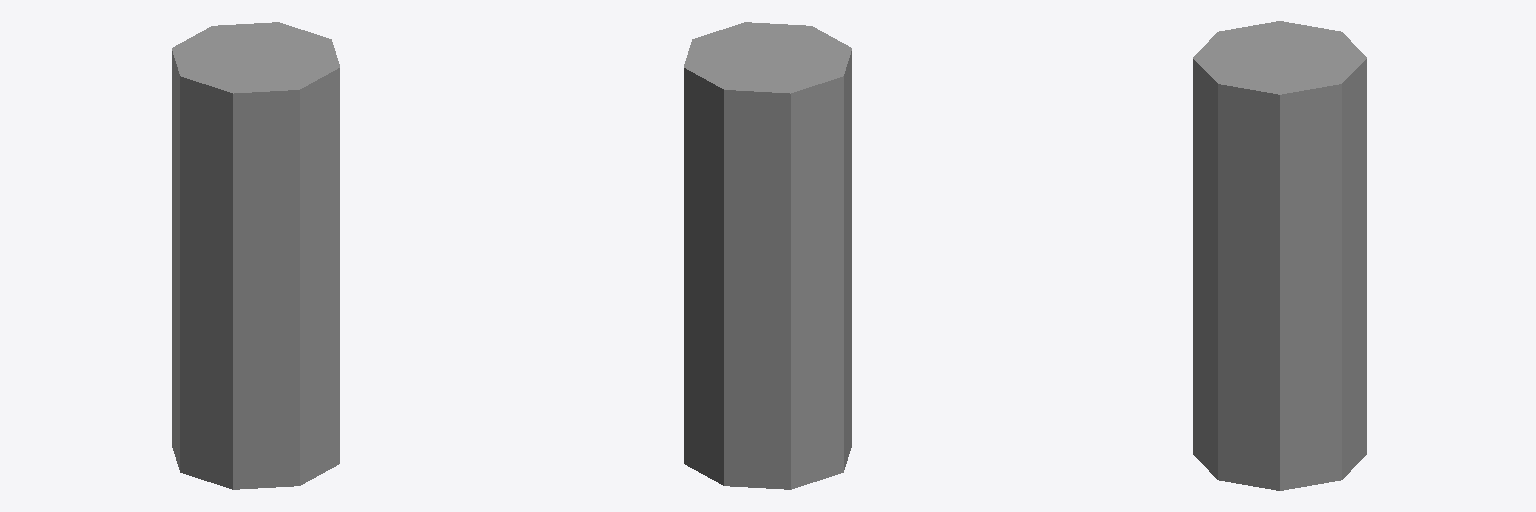
The model's file is AntennaTower.obj.
3 renders of one model, left to right at view 1: azimuth 30°, elevation 25°; view 2: azimuth 150°, elevation 25°; view 3: azimuth 270°, elevation 25°, orthographic.
Visible parts, largest first — view 1: Atenna_Tower_Flat_Cylinder.007; view 2: Atenna_Tower_Flat_Cylinder.007; view 3: Atenna_Tower_Flat_Cylinder.007.
Boxes of the visible parts, box(x1,y1,x2,y2) form: Atenna_Tower_Flat_Cylinder.007: box(172, 22, 339, 489); Atenna_Tower_Flat_Cylinder.007: box(684, 22, 851, 489); Atenna_Tower_Flat_Cylinder.007: box(1193, 21, 1366, 490).
Bounding box in the file's own units: 0.4 × 1 × 0.4.